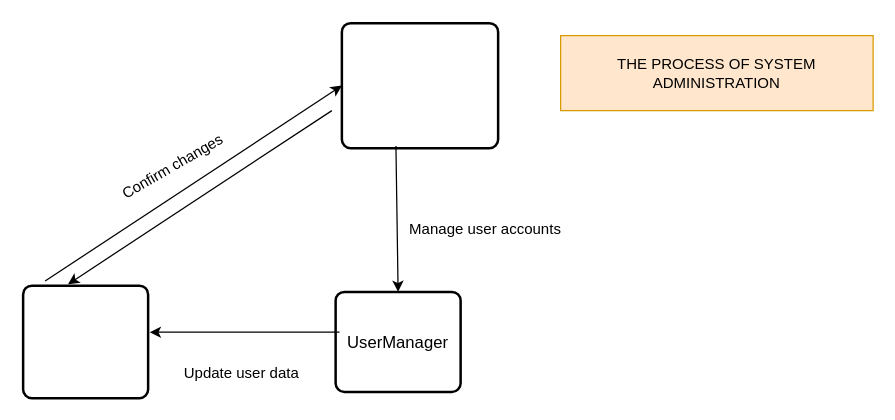
This 895x420 diagram has some shape labels left out. The shapes that lost their labels are listed below. From the top down, each one's centre as x and y in pixels, then its label:
the point at 419,85: Admin
the point at 85,341: DatabaseManager
